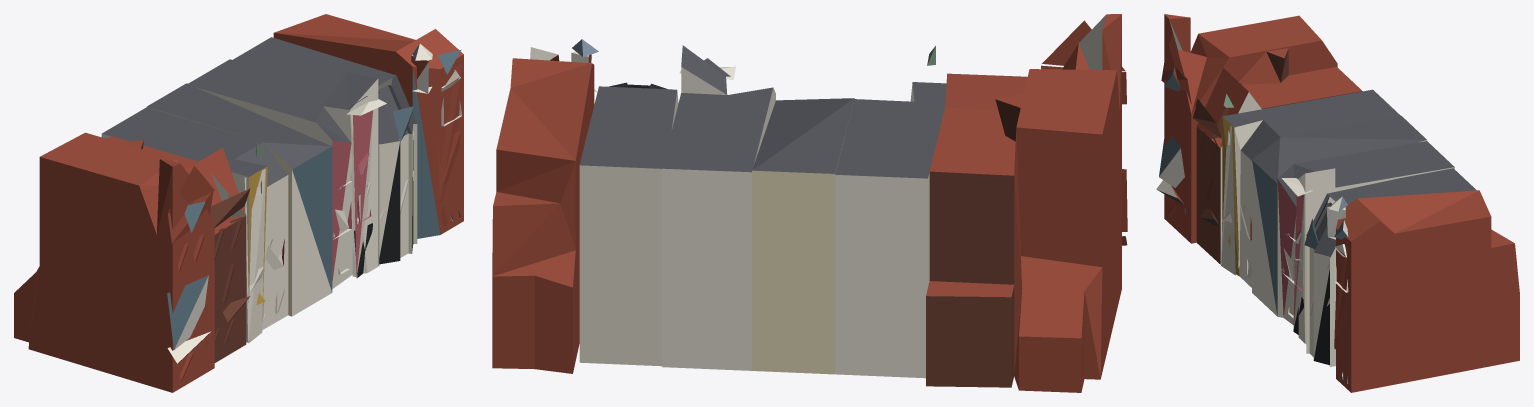
The model's file is zevenlandenhuizen.lod2.glb.
3 renders of one model, left to right at view 1: azimuth 30°, elevation 25°; view 2: azimuth 150°, elevation 25°; view 3: azimuth 270°, elevation 25°, orthographic. The views are drawn at different scales.
Parts seen in each view (by area): view 1: lod2; view 2: lod2; view 3: lod2.
Boxes of the visible parts, x1,y1,x2,y2 form: lod2: (14,14,463,392); lod2: (492,14,1127,392); lod2: (1156,14,1519,392).
Size of the model in its own units: 43.54 by 20.55 by 33.09.
